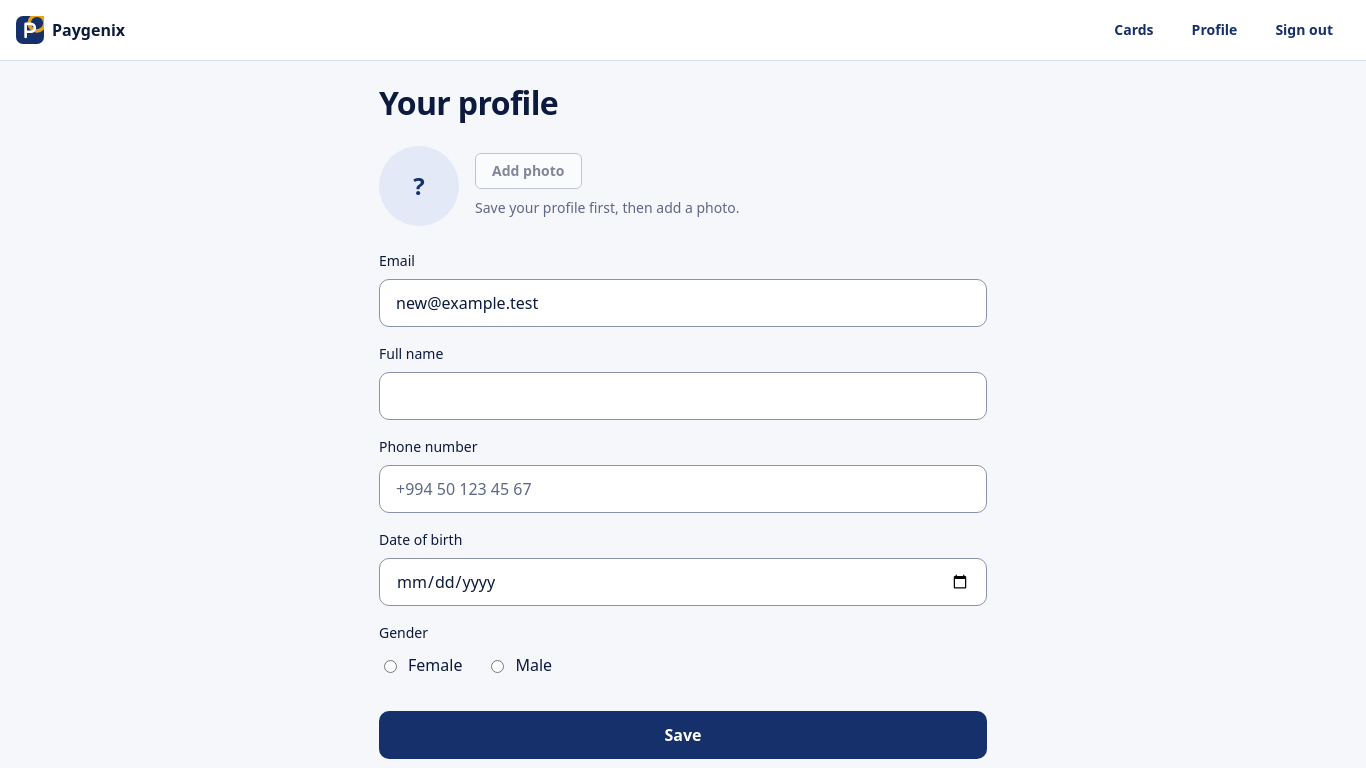
Test: a fresh account must fill every field before the first save
expect the field labelled "Full name" is shown: met, box left=380, top=373, right=986, bottom=419
Click the button "Save": {"x": 683, "y": 735} left=379, top=711, right=987, bottom=759
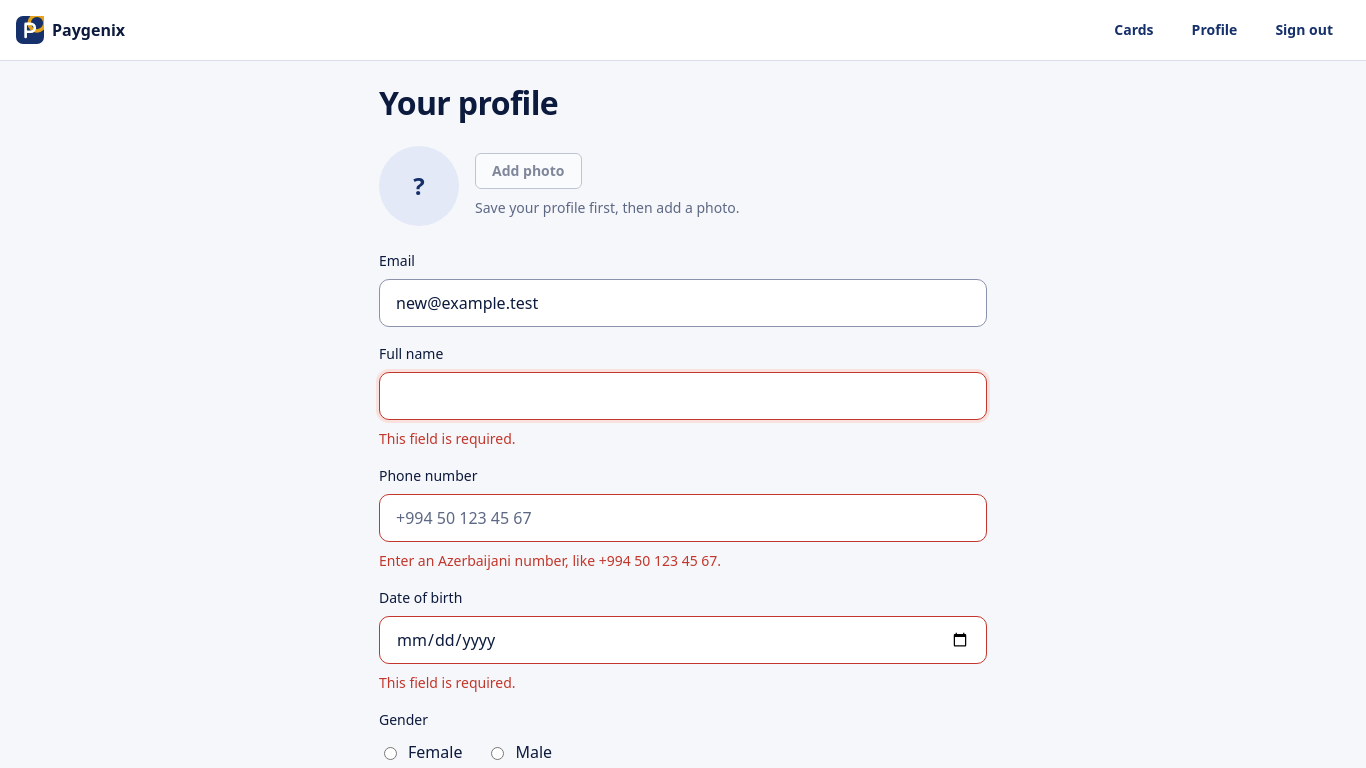
expect the text "This field is required." is shown 3 times: met
expect the text "Enter an Azerbaijani number, like +994 50 123 45 67." is shown: met, box left=379, top=551, right=721, bottom=570
